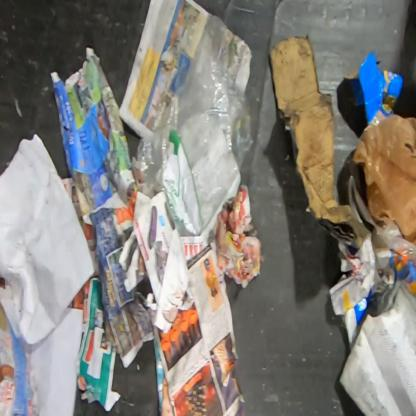cardboard: (269, 35, 373, 248), (342, 51, 406, 127)
soft_plastic: (132, 13, 254, 237), (351, 109, 415, 249), (347, 174, 416, 268)
